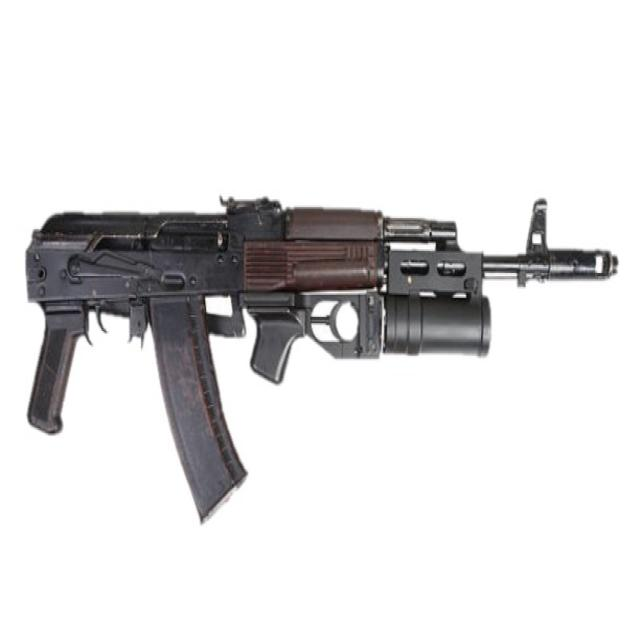rifle: (19, 180, 630, 532)
